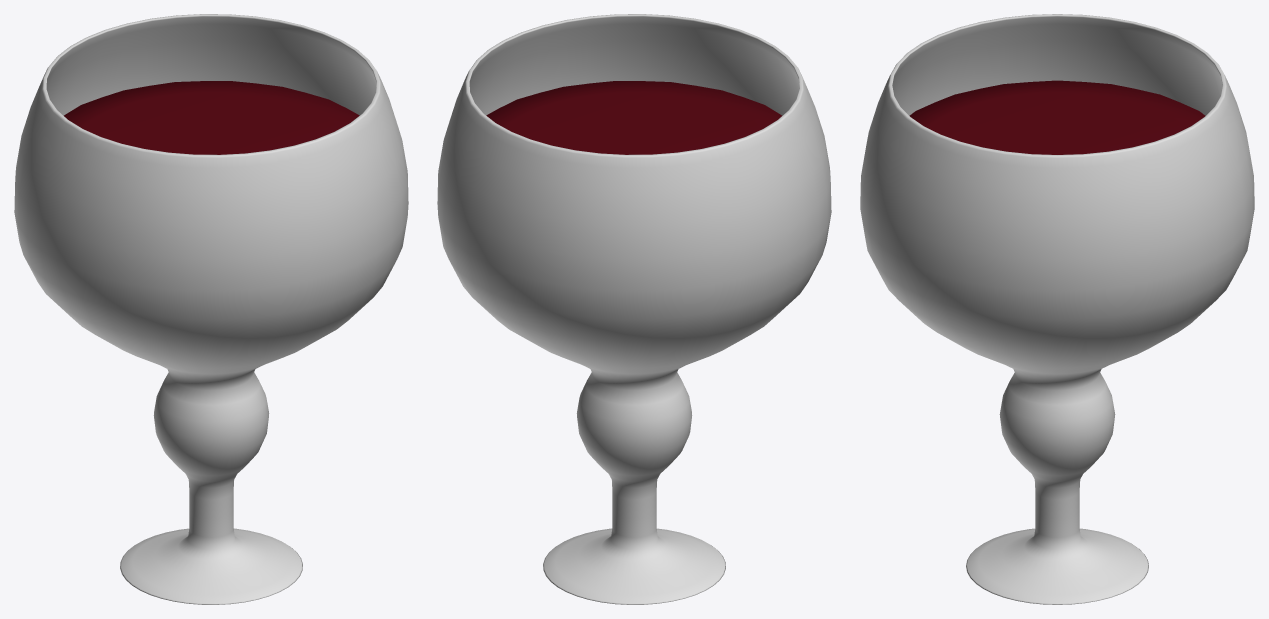
File: trophy.fbx
The picture shows the model from 3 angles, left to right: view 1: azimuth 30°, elevation 25°; view 2: azimuth 150°, elevation 25°; view 3: azimuth 270°, elevation 25°; orthographic projection.
Parts seen in each view (by area): view 1: Wine01; view 2: Wine01; view 3: Wine01.
Boxes of the visible parts, x1,y1,x2,y2 form: Wine01: (14,14,408,604); Wine01: (437,14,831,604); Wine01: (860,14,1254,604).
Bounding box in the file's own units: 250 × 336 × 250.
